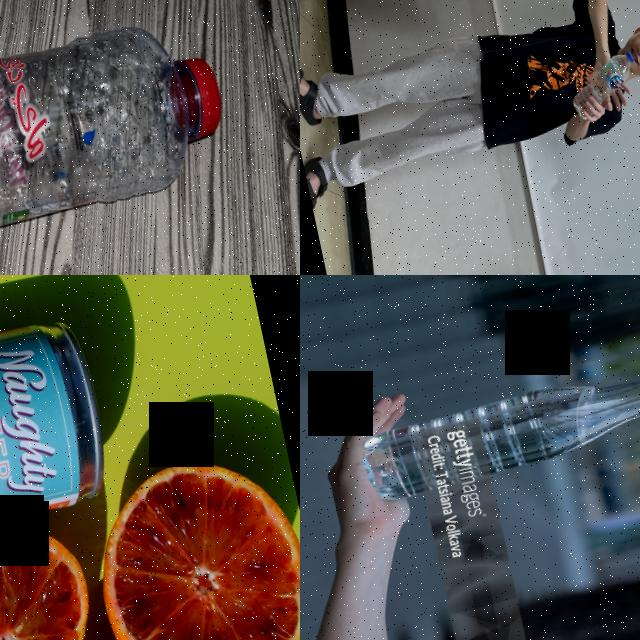bottle: (0, 4, 234, 273), (352, 354, 640, 505), (562, 48, 640, 124)
can: (0, 317, 116, 589)
